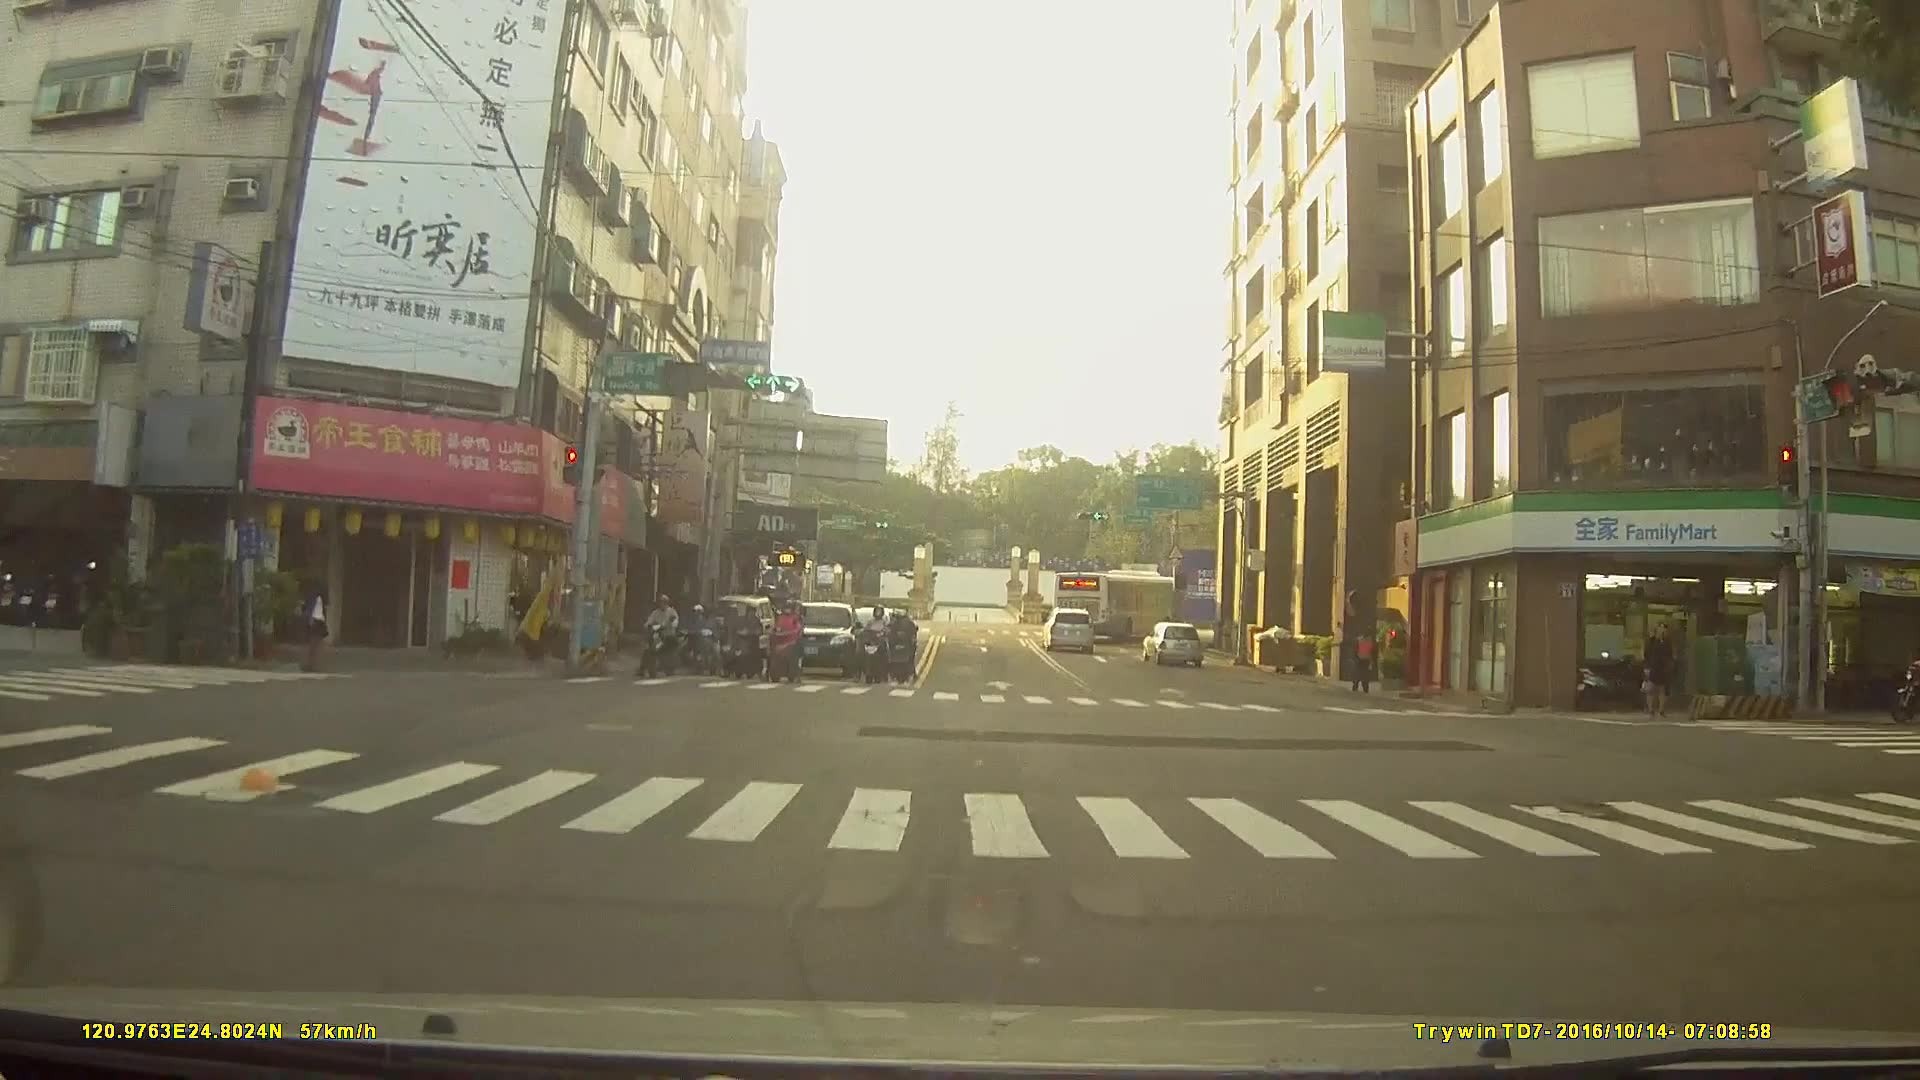pedestrian: (291, 574, 334, 671), (1640, 620, 1677, 719), (1348, 628, 1380, 696)
rider: (766, 596, 809, 687), (645, 594, 684, 684), (885, 604, 924, 684), (1888, 633, 1920, 724), (864, 603, 899, 683), (731, 602, 766, 678), (687, 599, 721, 670)
vehicle: (1051, 566, 1185, 639), (779, 601, 862, 675), (1138, 622, 1205, 668), (1042, 603, 1097, 651)
